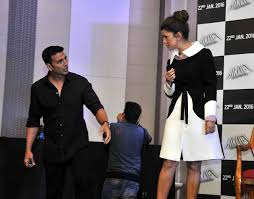Caution: (23, 10, 227, 171)
Good: (110, 12, 223, 199), (23, 43, 151, 193)
